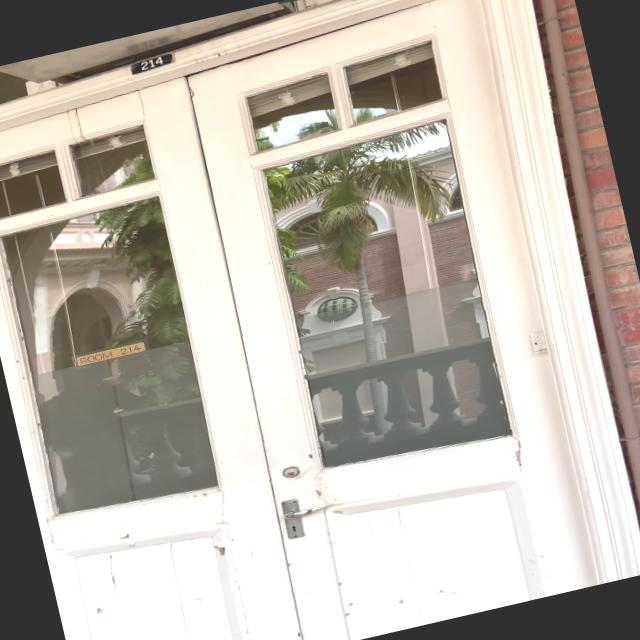room214: (122, 48, 180, 78)
